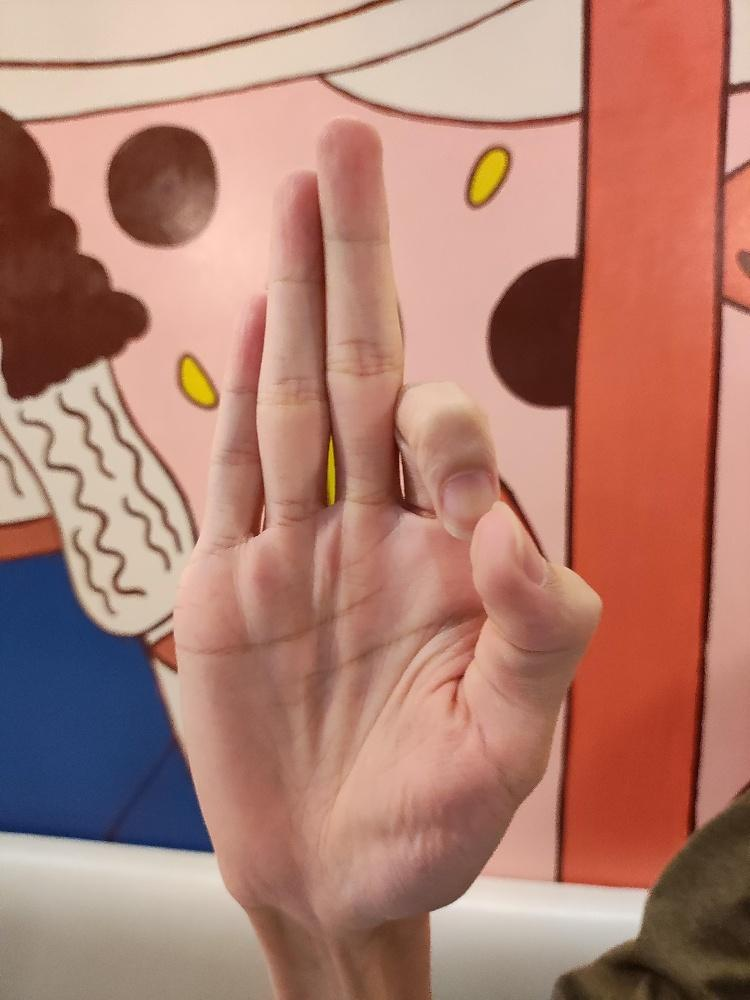f: (169, 112, 605, 929)
